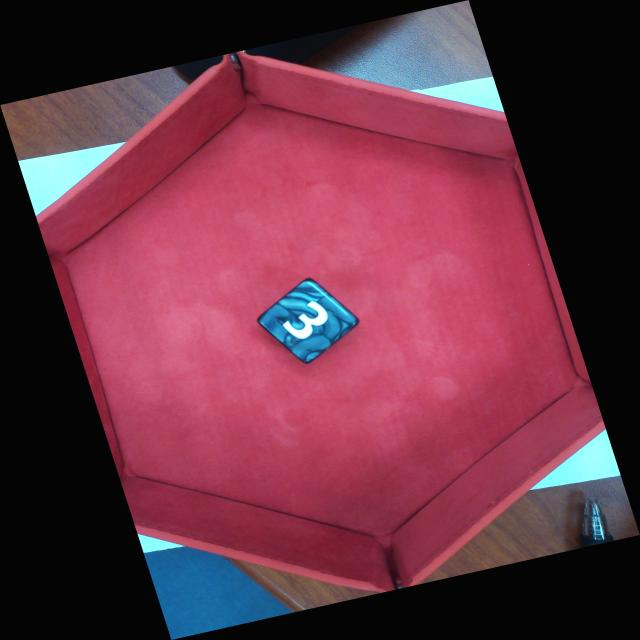dice: (259, 282, 356, 362)
